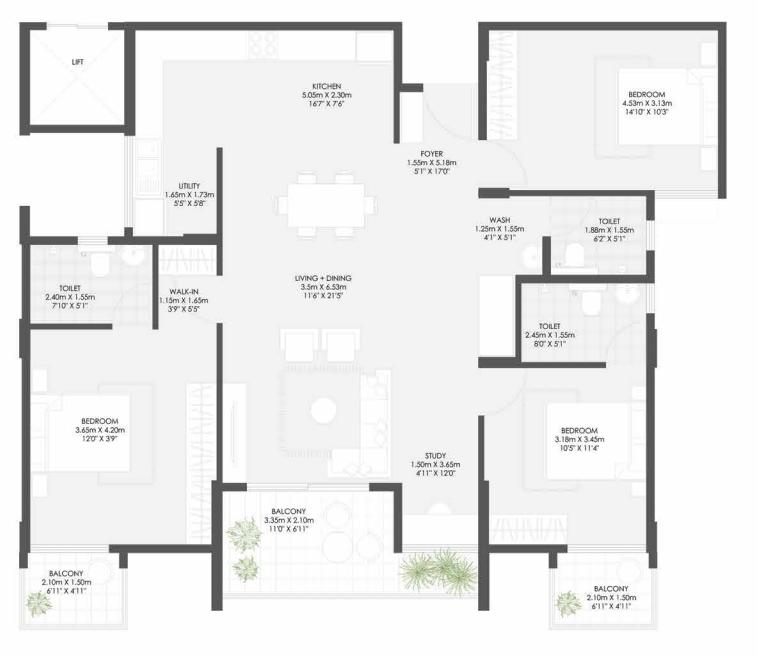Balcony: (224, 484, 476, 597), (20, 556, 125, 627), (548, 557, 650, 622)
Bed: (30, 395, 130, 476), (615, 70, 720, 143), (547, 405, 646, 478)
Bedroom: (32, 326, 215, 542), (486, 24, 719, 191), (481, 368, 647, 552)
Dining table: (273, 175, 386, 241)
Foyer: (404, 97, 481, 430), (483, 196, 515, 357), (515, 192, 542, 275)
Kitchen: (132, 35, 394, 149)
Living Room: (221, 280, 398, 482), (224, 153, 400, 278)
Sofa: (356, 369, 399, 476), (276, 325, 362, 366), (333, 447, 392, 482), (310, 397, 340, 425)
Wardrobe: (480, 22, 523, 141), (185, 380, 213, 542), (483, 516, 568, 545)
commode: (89, 251, 113, 278), (581, 292, 604, 319), (568, 243, 584, 270)
door: (427, 87, 478, 145), (482, 142, 530, 192), (482, 370, 528, 414), (115, 285, 153, 326)
dress: (162, 245, 217, 322)
fridge: (356, 33, 393, 64)
kitchen-slab: (135, 30, 354, 59), (134, 33, 165, 199)
lift: (28, 28, 125, 122)
sink: (136, 159, 161, 195), (521, 244, 543, 272), (617, 285, 641, 304), (122, 247, 144, 265)
stove: (252, 33, 278, 60)
study: (401, 434, 482, 546)
toilet: (520, 281, 647, 367), (29, 243, 156, 326), (544, 199, 643, 275)
tv: (220, 382, 250, 482)
utility: (132, 146, 220, 232)
washing-machine: (133, 198, 167, 234)
